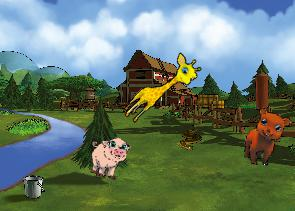bear: (241, 106, 292, 170)
giraffe: (119, 48, 205, 132)
pig: (85, 133, 132, 182)
